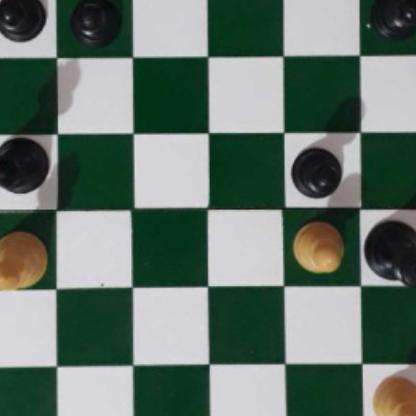black-bishop: (0, 135, 53, 192)
black-pawn: (291, 143, 342, 197), (69, 0, 119, 44), (368, 0, 416, 39), (0, 0, 42, 42)
black-queen: (364, 213, 416, 291)
white-bishop: (0, 232, 47, 289)
white-pawn: (291, 216, 345, 272), (369, 372, 416, 416)
